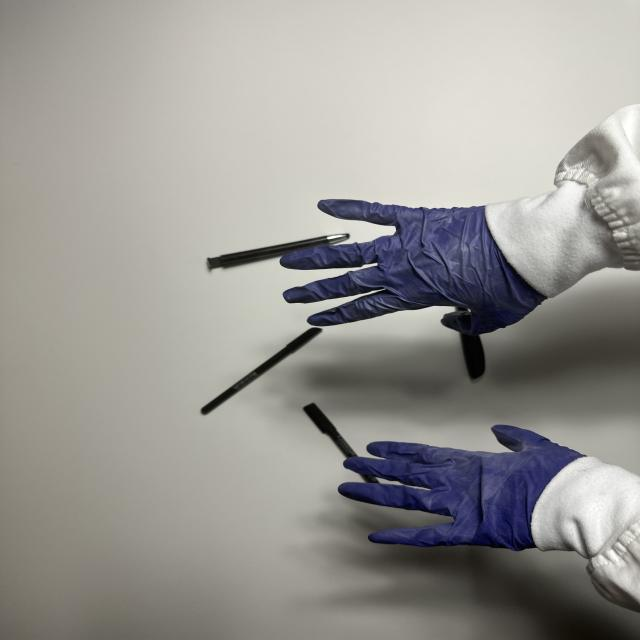gloves_contaminated: (281, 200, 544, 335), (338, 424, 584, 550)
